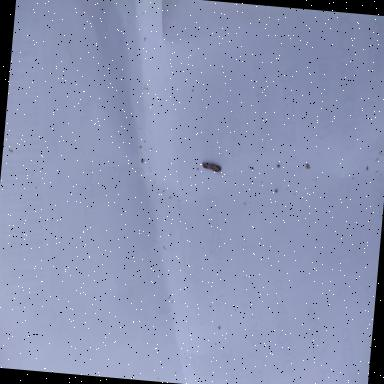pbw: (202, 164, 222, 172)
